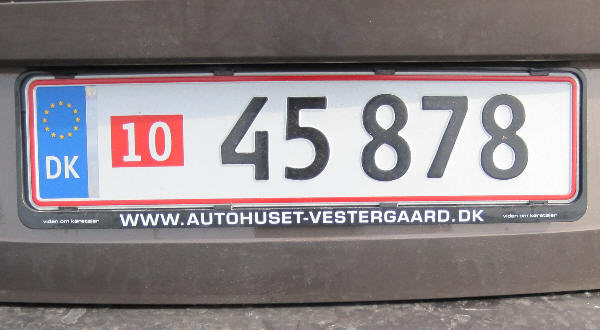license_plate: (26, 71, 581, 209)
